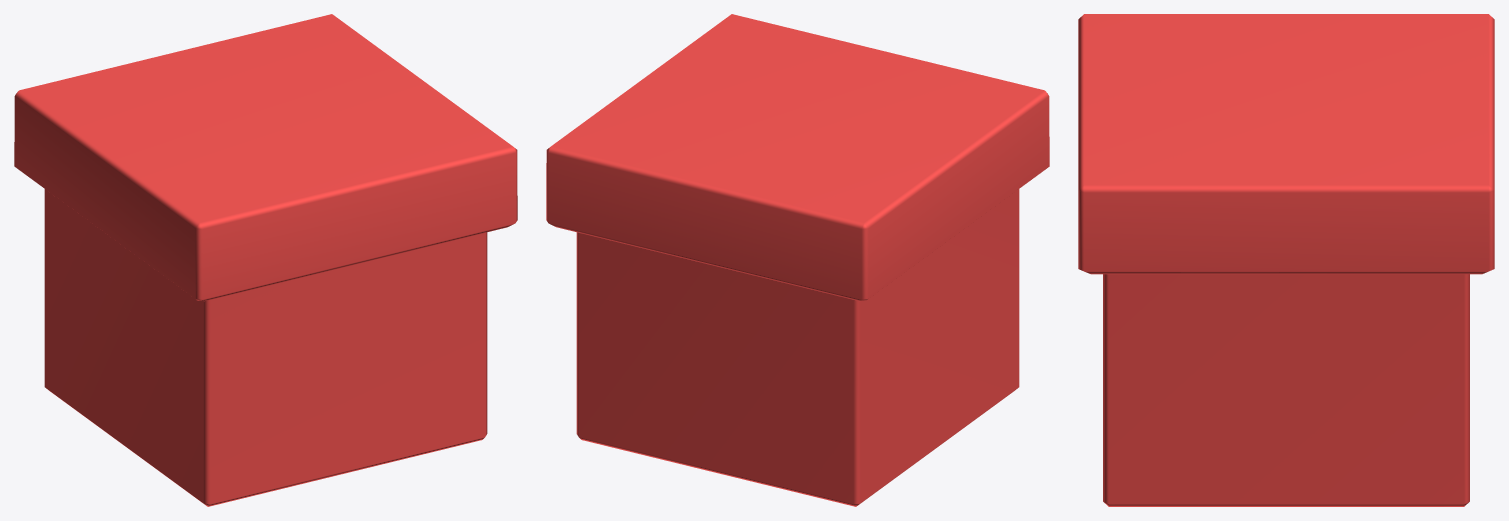
Rendered from Public_6_Box_5.glb.
3 renders of one model, left to right at view 1: azimuth 30°, elevation 25°; view 2: azimuth 150°, elevation 25°; view 3: azimuth 270°, elevation 25°, orthographic. The views are drawn at different scales.
Visible parts, largest first — view 1: Public_6_Box_5; view 2: Public_6_Box_5; view 3: Public_6_Box_5.
Part boxes in pixels (x1,y1,x2,y2): Public_6_Box_5: (14, 14, 517, 506); Public_6_Box_5: (546, 14, 1049, 506); Public_6_Box_5: (1078, 14, 1494, 506).
Size of the model in its own units: 1.42 by 1.25 by 1.42.
Materials: 1 (1 with a texture image).
